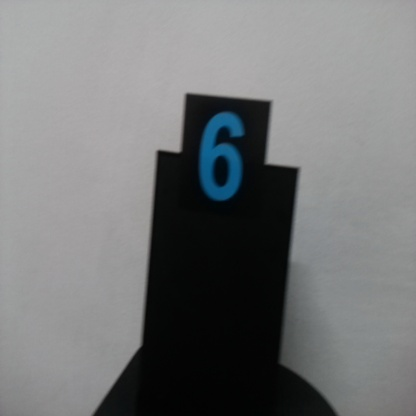id_6: (184, 93, 261, 243)
